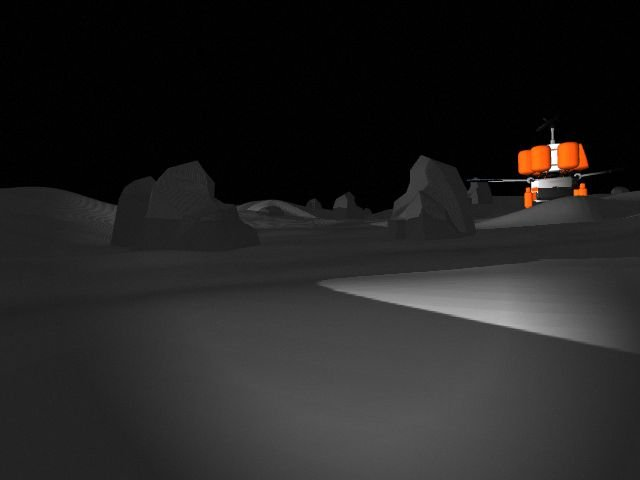homebase: (466, 110, 637, 220)
